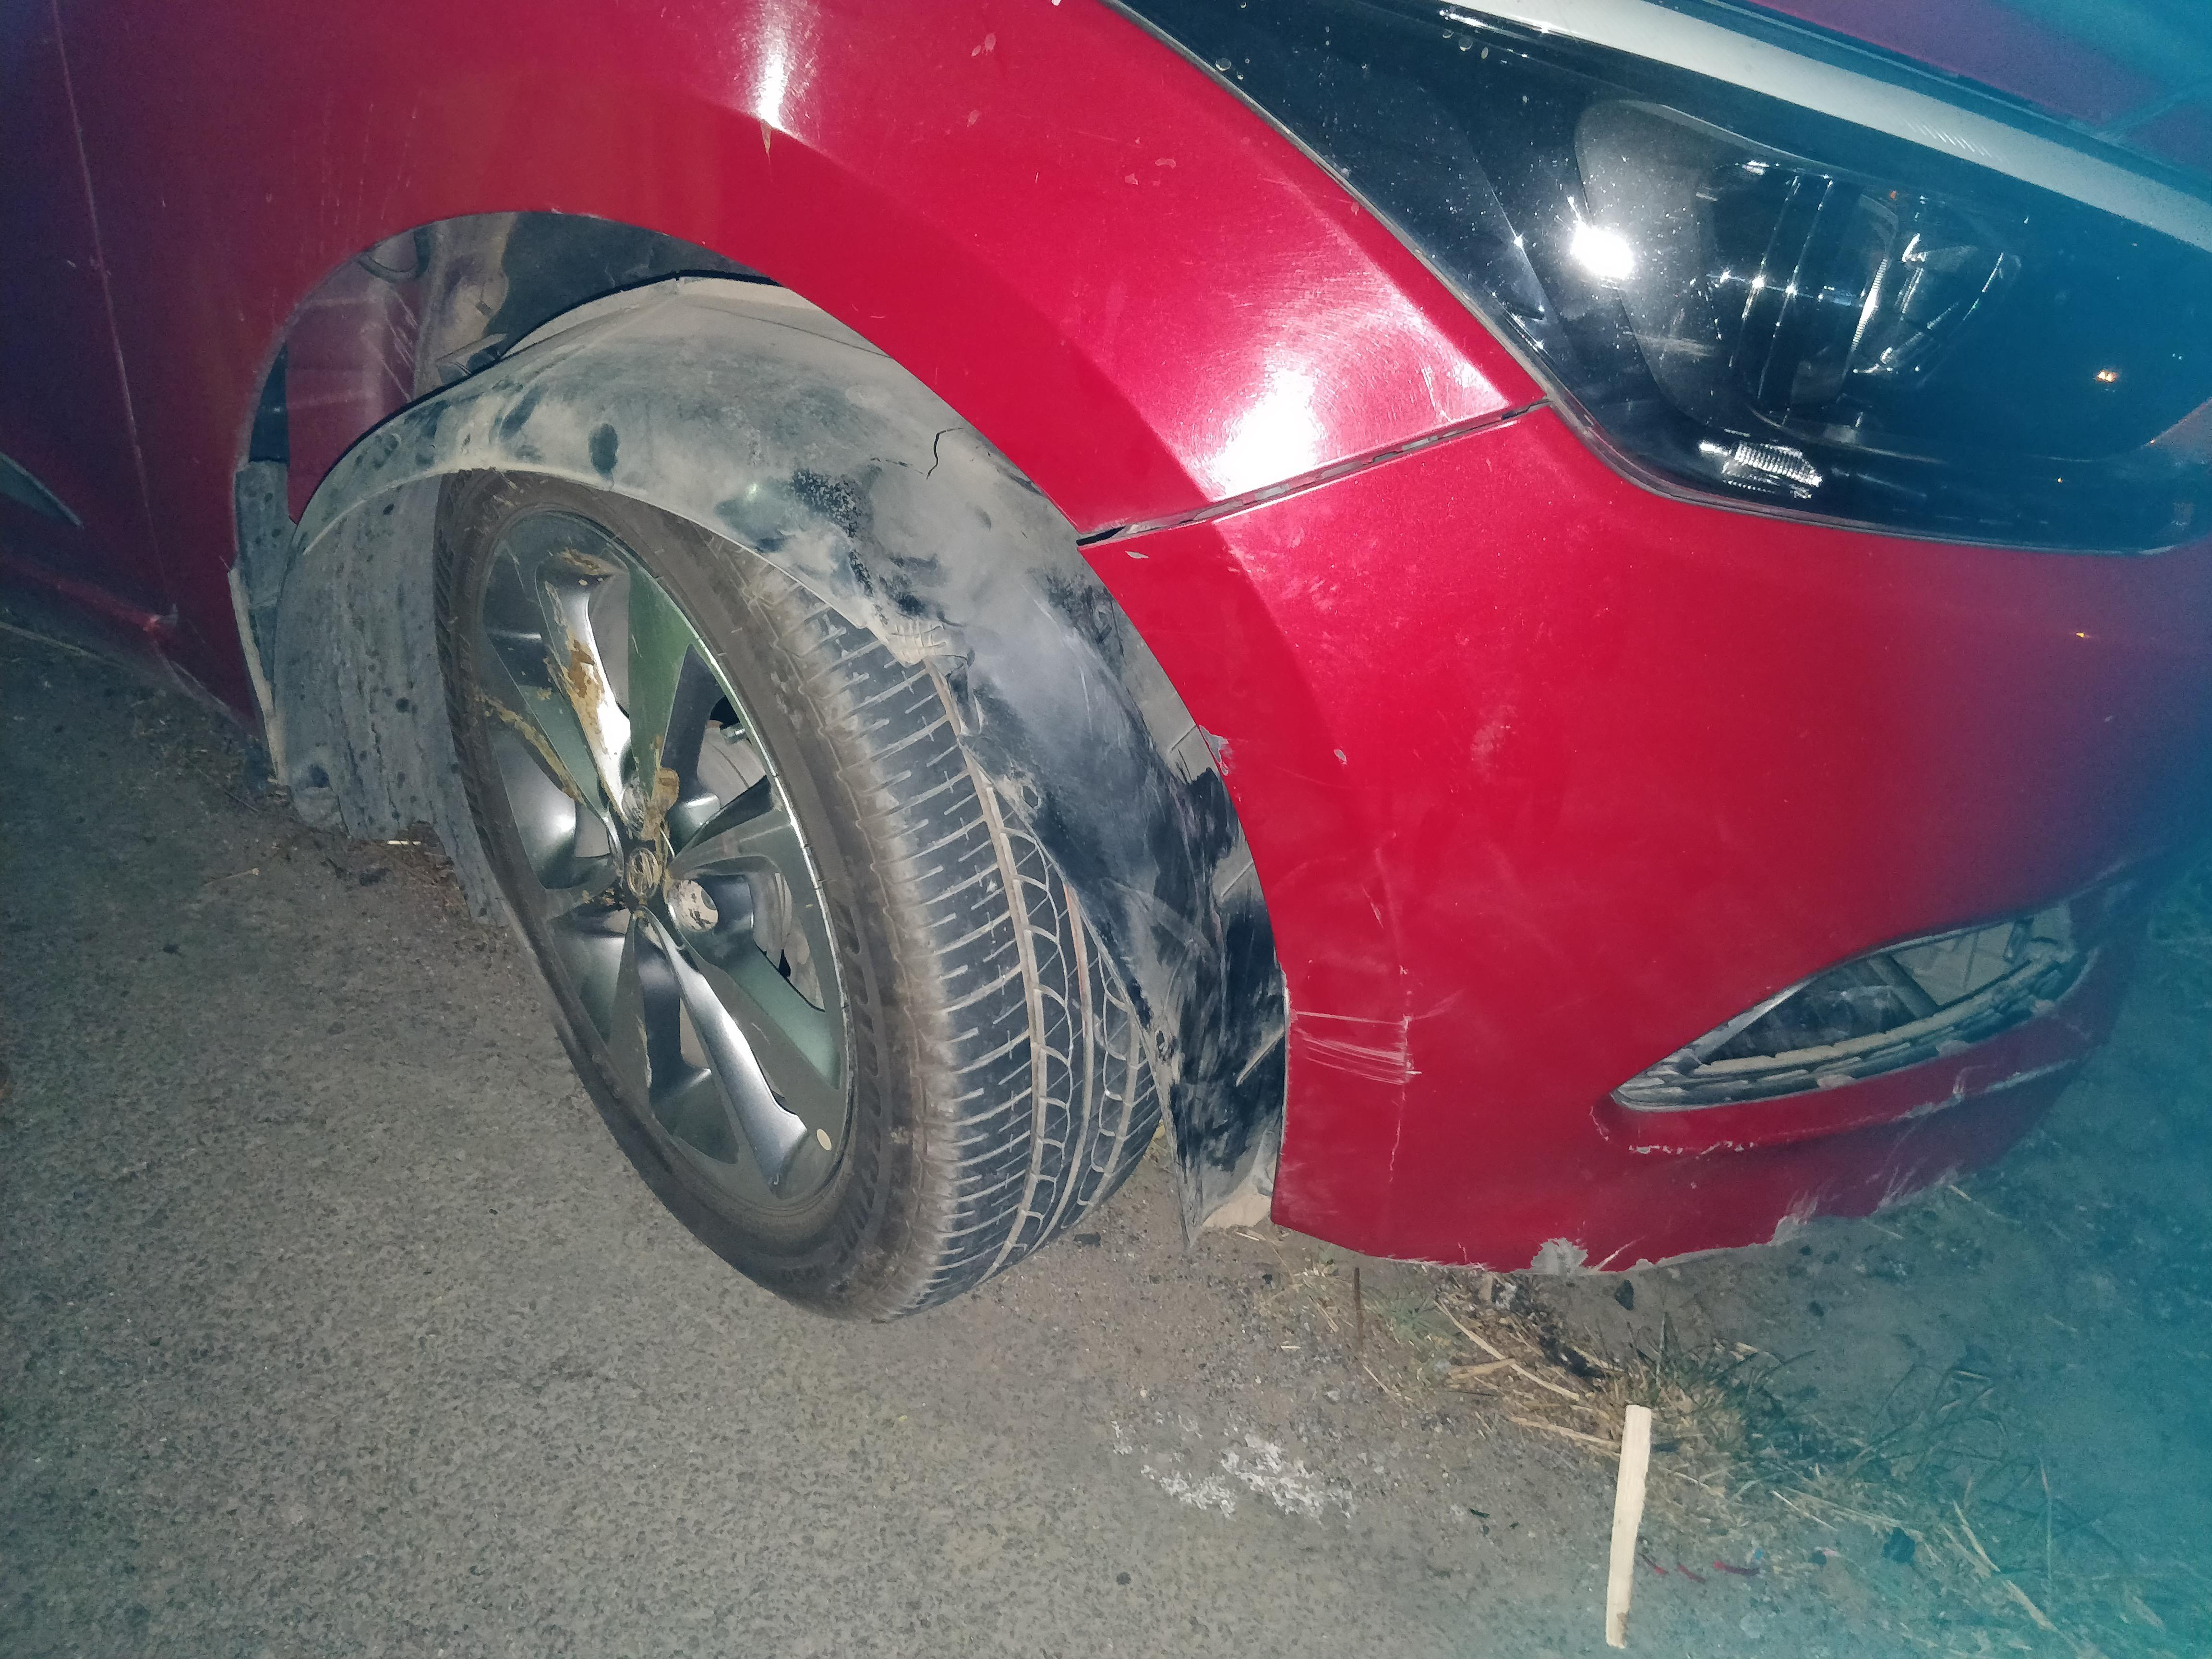front-bumper-dent: (1099, 476, 2212, 1262)
